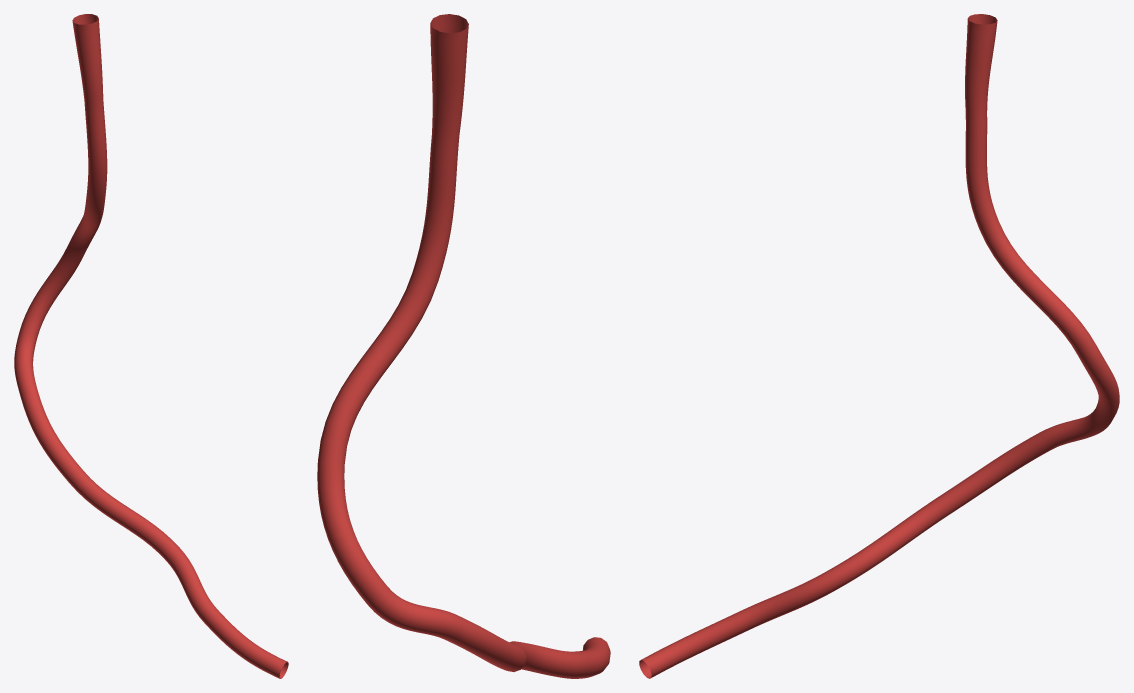
The picture shows the model from 3 angles, left to right: view 1: azimuth 30°, elevation 25°; view 2: azimuth 150°, elevation 25°; view 3: azimuth 270°, elevation 25°; orthographic projection. The views are drawn at different scales.
Parts seen in each view (by area): view 1: 右侧面动脉; view 2: 右侧面动脉; view 3: 右侧面动脉.
Boxes of the visible parts, x1,y1,x2,y2 form: 右侧面动脉: [14, 14, 288, 678]; 右侧面动脉: [317, 14, 610, 678]; 右侧面动脉: [639, 14, 1119, 678].
Size of the model in its own units: 0.0171 by 0.0965 by 0.0663.
